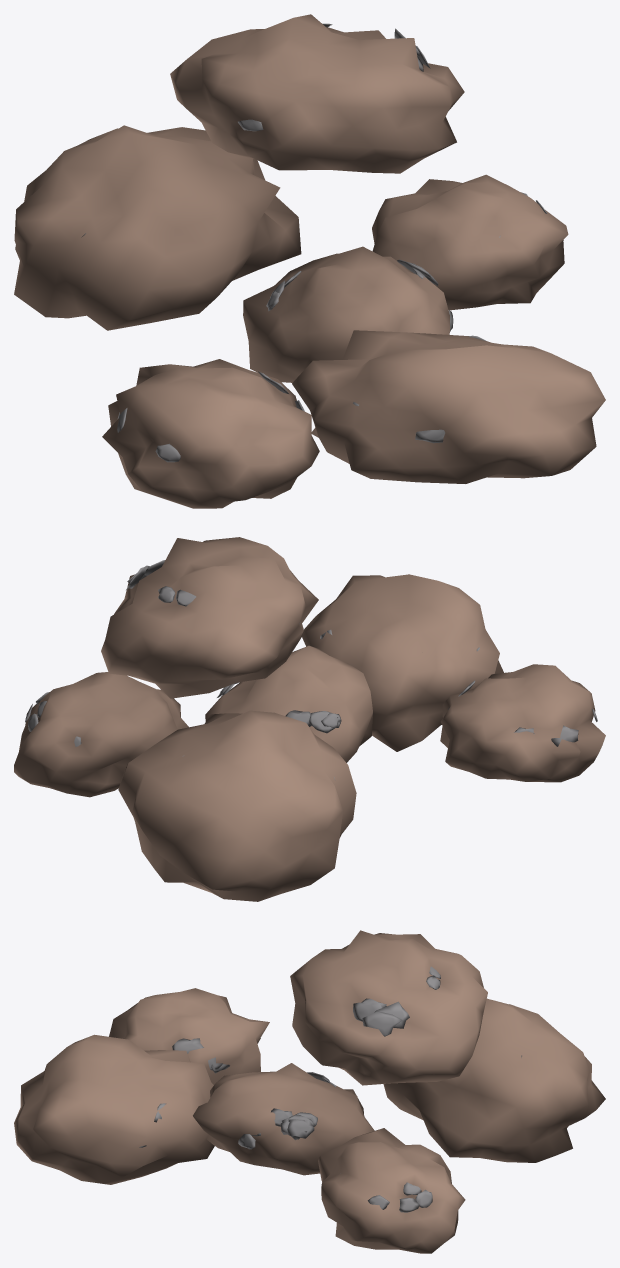
The model's file is metal-pile.glb.
3 views of the same model, one above another, from view 1: azimuth 30°, elevation 25°; view 2: azimuth 150°, elevation 25°; view 3: azimuth 270°, elevation 25° (orthographic). The views are drawn at different scales.
Parts seen in each view (by area): view 1: Body_lod0; view 2: Body_lod0; view 3: Body_lod0.
Boxes of the visible parts, x1,y1,x2,y2 form: Body_lod0: (14,14,605,508); Body_lod0: (14,537,605,901); Body_lod0: (14,930,605,1253).
Size of what is drawn, in the model's own units: 0.4816 by 0.254 by 0.5792.
